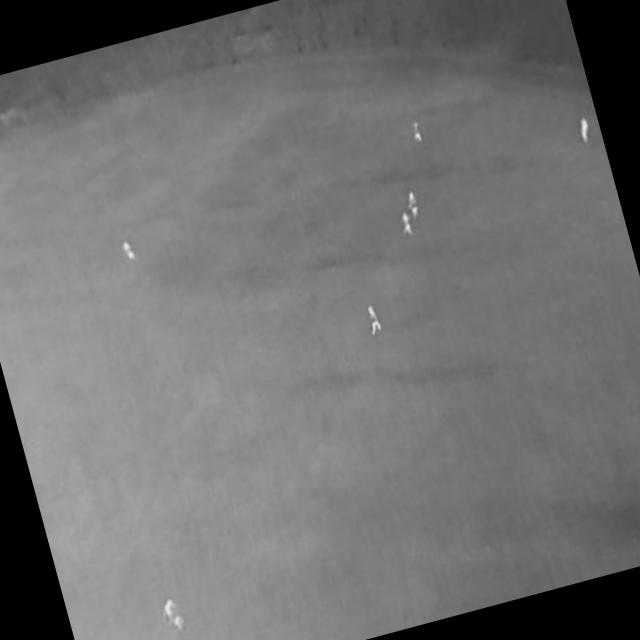person: (162, 598, 187, 635), (364, 305, 383, 338), (405, 191, 421, 221), (577, 118, 593, 143), (399, 209, 413, 236), (410, 120, 424, 144), (122, 240, 136, 263)
